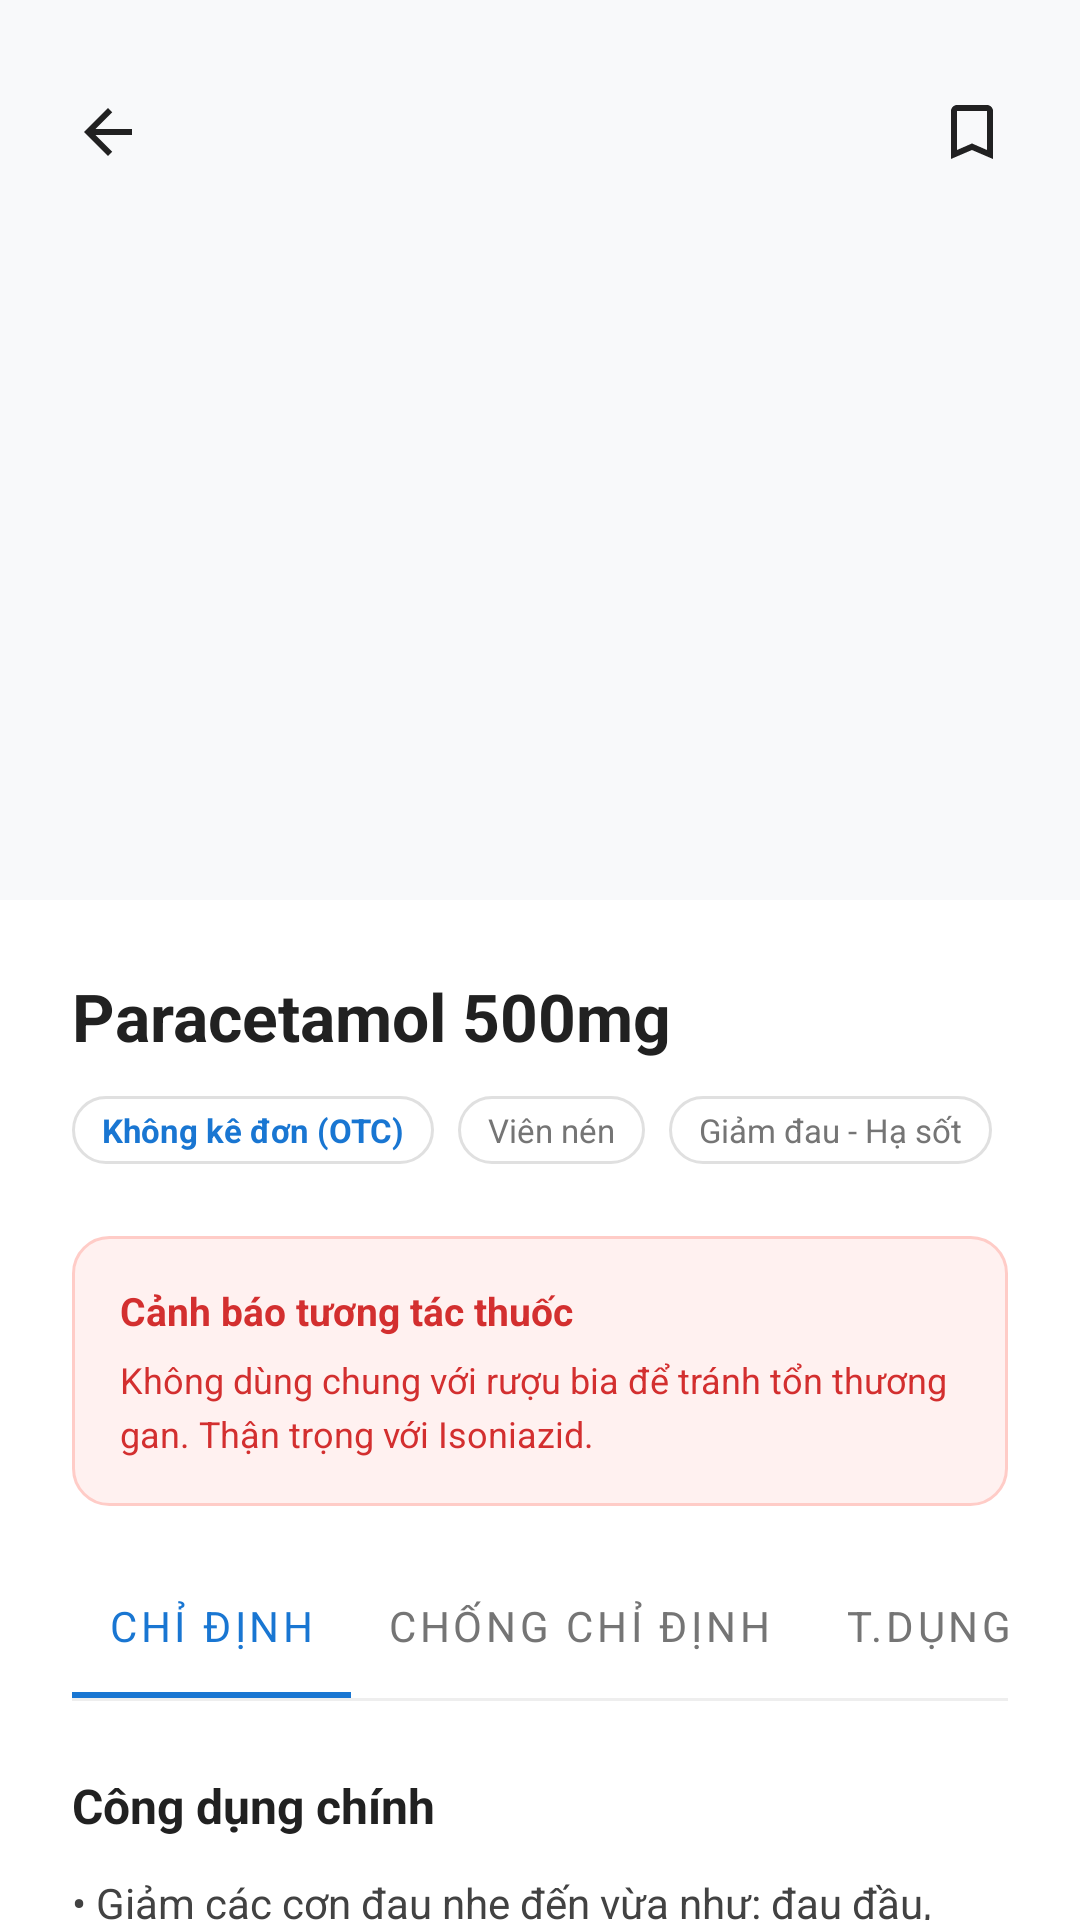

Named icons in this screenshot (1080 × 1920) and their centers, (x=x, y=y):
Lưu thuốc: (x=972, y=132)
Quay lại: (x=108, y=132)
